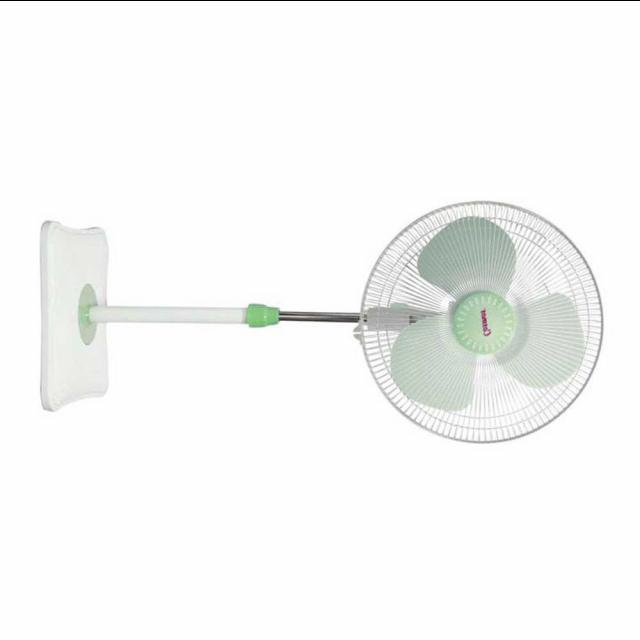fan: (33, 195, 603, 443)
